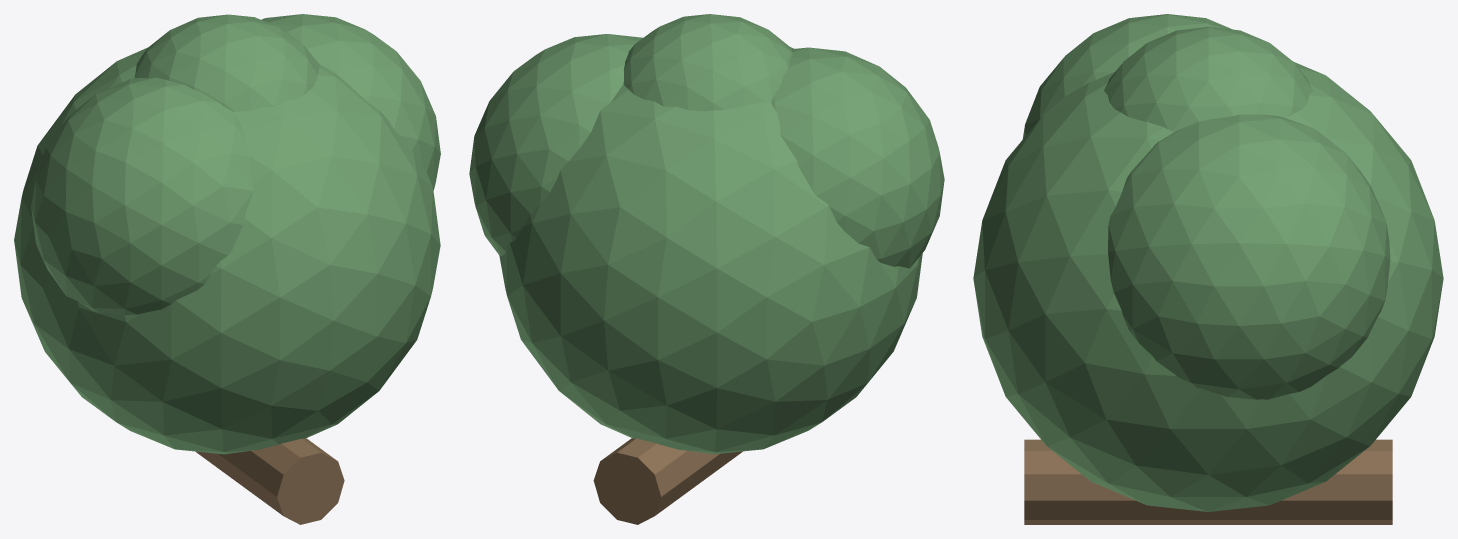
Rendered from tree_oak.glb.
3 views of the same model, side by side, from view 1: azimuth 30°, elevation 25°; view 2: azimuth 150°, elevation 25°; view 3: azimuth 270°, elevation 25° (orthographic). The views are drawn at different scales.
Visible parts, largest first — view 1: part_1, part_2, part_4, part_3, part_0; view 2: part_1, part_2, part_3, part_4, part_0; view 3: part_1, part_3, part_4, part_0, part_2.
Part boxes in pixels (x1,y1,x2,y2): part_1: (14, 47, 440, 454); part_2: (31, 77, 253, 314); part_4: (134, 14, 319, 111); part_3: (261, 14, 440, 190); part_0: (195, 438, 344, 524); part_1: (499, 47, 922, 454); part_2: (771, 47, 944, 268); part_3: (469, 34, 642, 256); part_4: (623, 14, 792, 111); part_0: (593, 438, 742, 524); part_1: (973, 61, 1443, 511); part_3: (1108, 114, 1390, 399); part_4: (1104, 27, 1312, 131); part_0: (1024, 439, 1392, 524); part_2: (1022, 14, 1232, 139).
Bounding box in the file's own units: 5.05 × 5.2 × 4.6.
